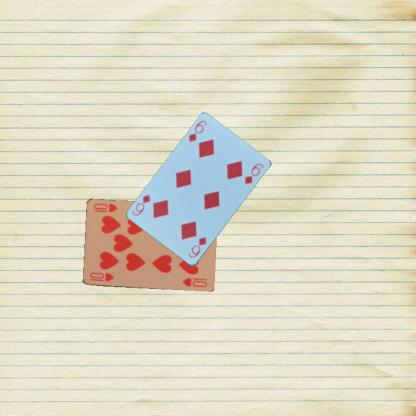10h: (88, 270, 115, 282)
6d: (186, 235, 208, 260), (186, 118, 208, 143)
